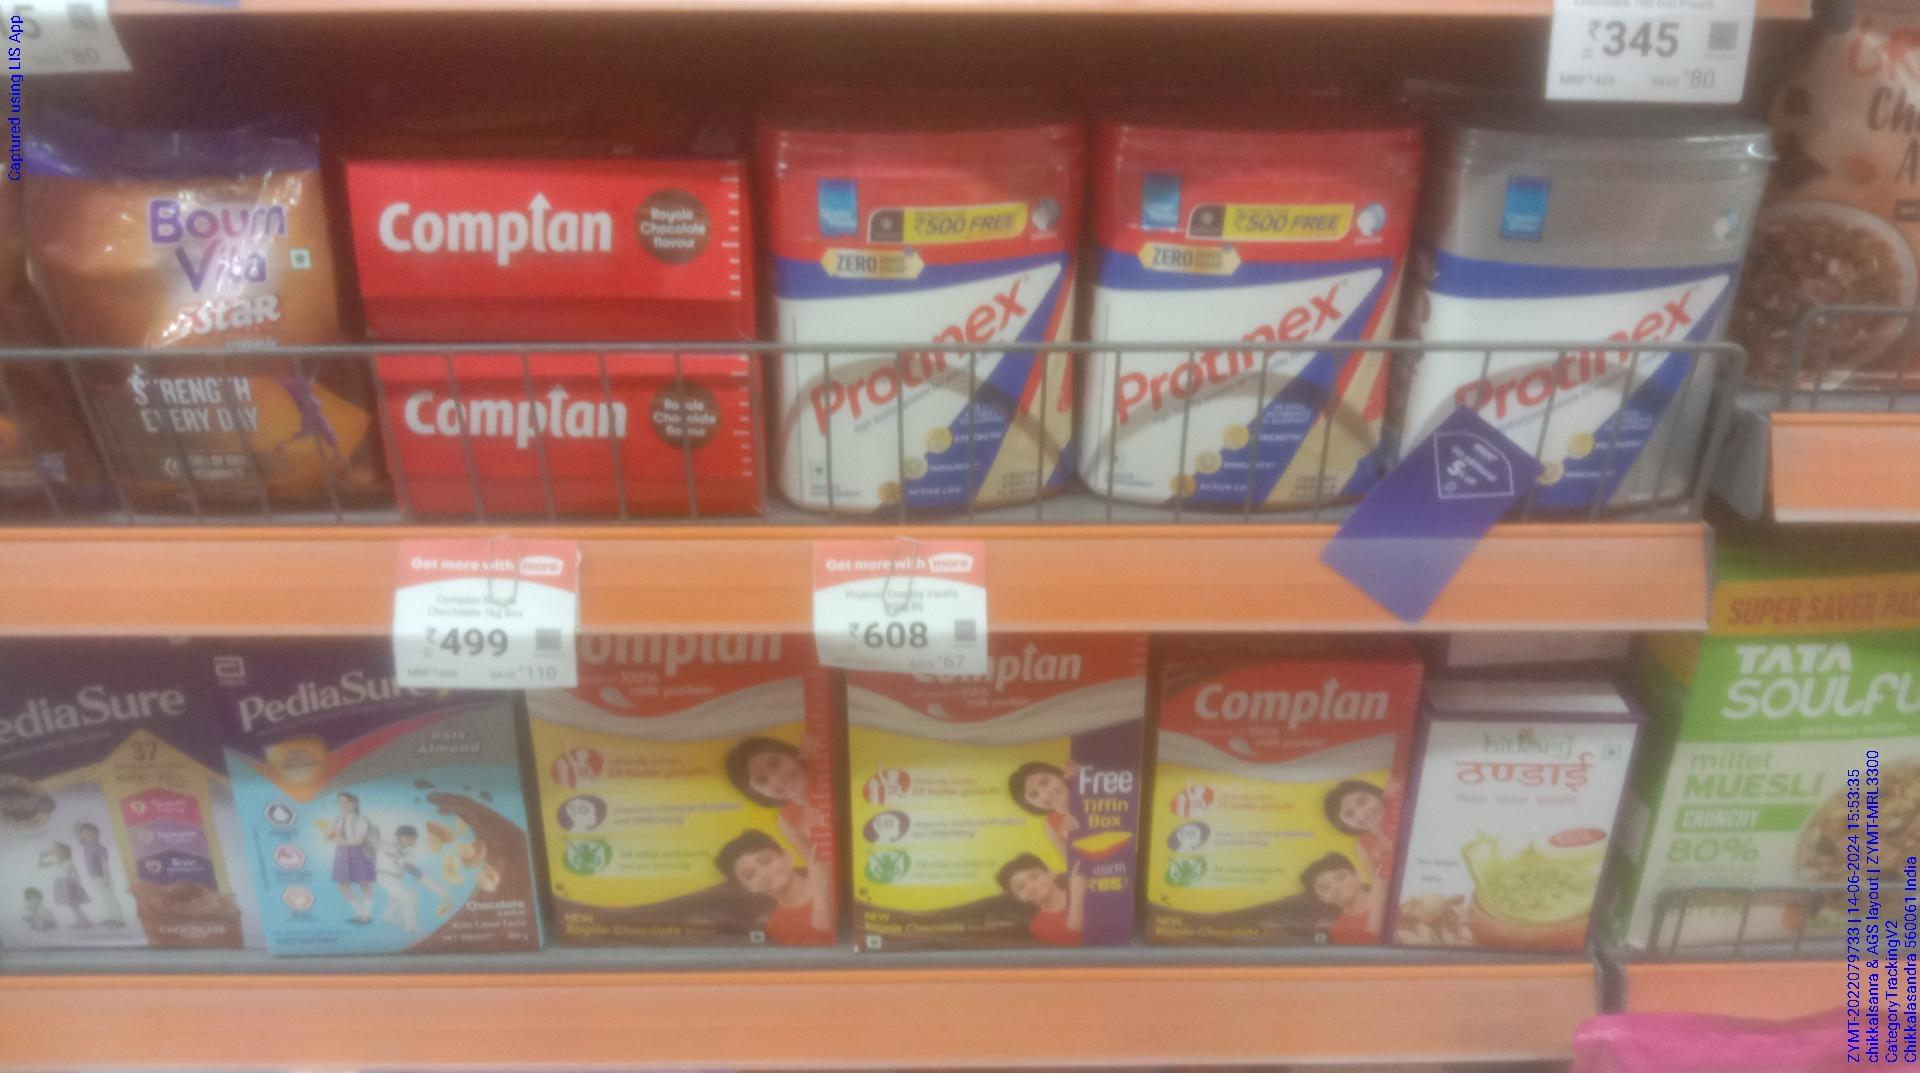BOURN_VITA_FIVE_STAR_MAGIC_500_G_POUCH: (87, 121, 339, 521)
COMPLAN_CHOCOLATE_500_GMS_PACK: (848, 666, 1142, 952), (554, 685, 827, 946), (1153, 664, 1383, 949)
PEDIASURE_7_PLUS_CHOCOLATE_400_G_PACK: (231, 680, 537, 953)
PROTINEX_ORIGINAL_400_G_JAR: (1428, 130, 1721, 506)
PROTINEX_VANILLA_400_G_JAR: (767, 125, 1076, 504), (1085, 120, 1386, 500)
